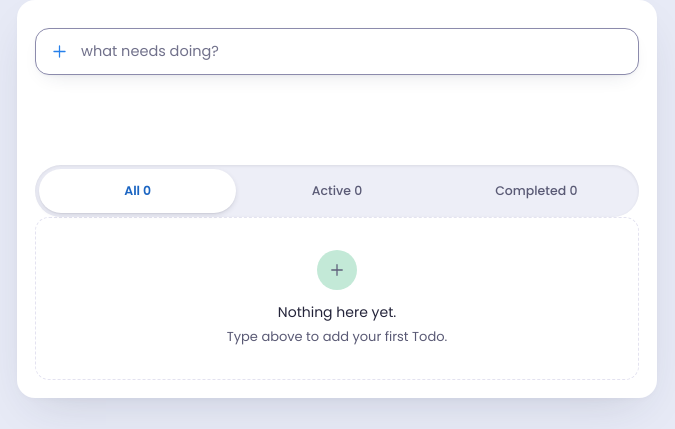
Scenario: the Filter Views, through the mounted card (Story 4.3) › announces the other empty variant when the view changes under it
Click the tab "Completed 0". click: click(536, 191)
box: [438,169,635,213]
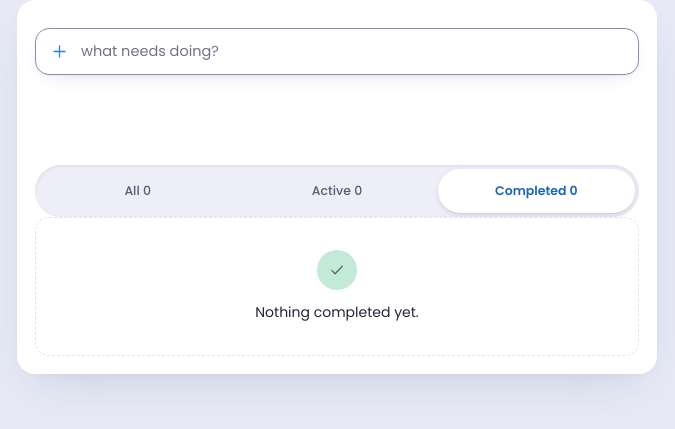
expect the text "Nothing completed yet." is shown: met, box [255,302,419,323]
